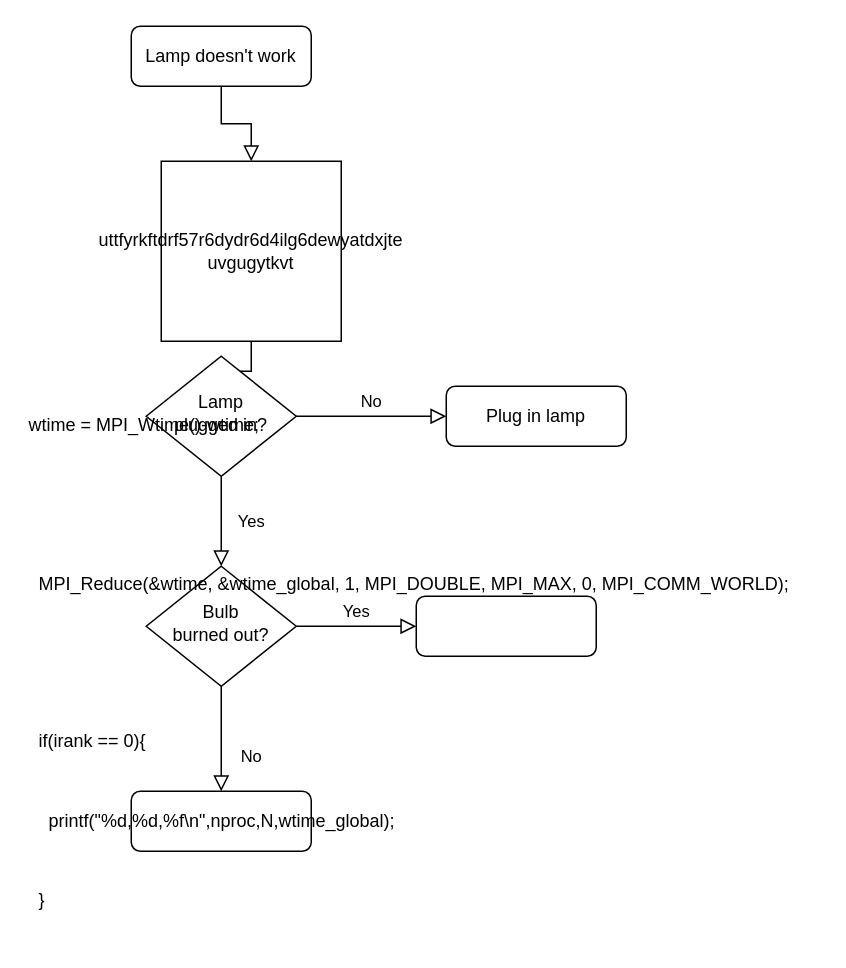
This 846x968 diagram has some shape labels left out. Each missing label, with the box of its shape:
Repair Lamp: (130, 790, 311, 851)
Replace Bulb: (415, 595, 596, 656)
